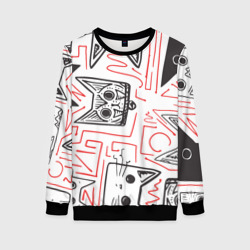cat: (72, 73, 139, 130), (99, 155, 160, 207)
